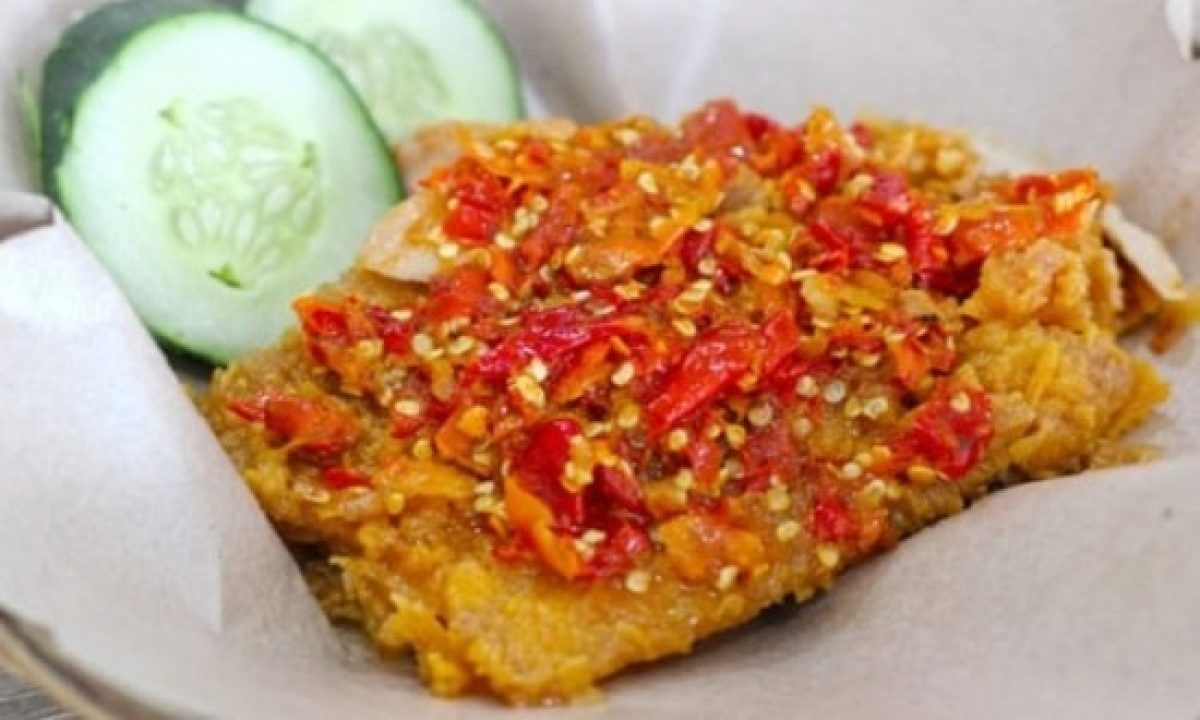ayam_geprek: (198, 56, 1193, 677)
